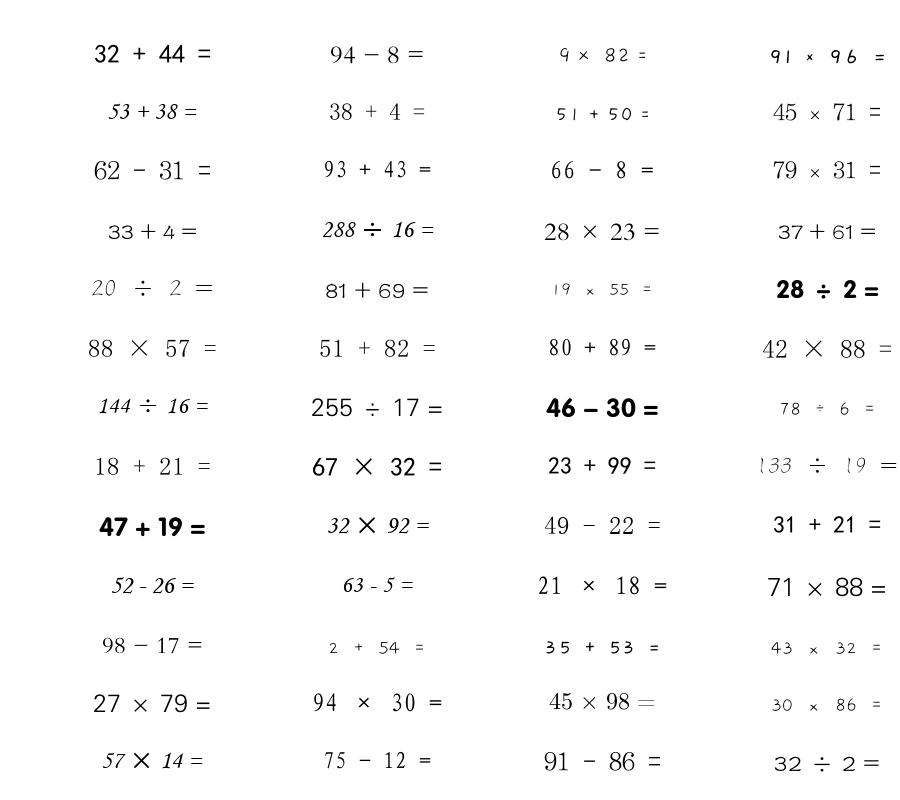MQ: (311, 398, 443, 417), (312, 457, 442, 476), (537, 576, 667, 595), (312, 693, 442, 712), (756, 457, 898, 474), (767, 577, 887, 597), (94, 160, 211, 180), (762, 340, 892, 358), (544, 751, 661, 771), (88, 339, 217, 357), (546, 398, 659, 418), (93, 694, 211, 713), (94, 44, 211, 63), (99, 517, 206, 537), (319, 339, 436, 357), (94, 457, 211, 475), (544, 516, 661, 534), (544, 223, 660, 241), (776, 279, 879, 299), (91, 280, 213, 296), (773, 103, 881, 121), (323, 160, 431, 178), (773, 161, 881, 179), (548, 338, 656, 356), (323, 751, 431, 769), (549, 692, 656, 710), (321, 221, 434, 238), (550, 161, 654, 179), (548, 457, 656, 474), (773, 516, 881, 533), (768, 49, 887, 64), (97, 398, 208, 414), (325, 282, 429, 299), (326, 517, 429, 534), (101, 752, 203, 769), (102, 637, 203, 654), (774, 756, 880, 772), (330, 46, 424, 64), (778, 223, 876, 240), (329, 103, 425, 120), (771, 698, 883, 712), (544, 641, 661, 654), (108, 223, 197, 240), (771, 642, 883, 655), (107, 103, 197, 119), (110, 577, 194, 594), (555, 107, 650, 122), (558, 47, 647, 63), (328, 641, 426, 655), (779, 402, 876, 416), (551, 283, 653, 296), (341, 577, 413, 592)
